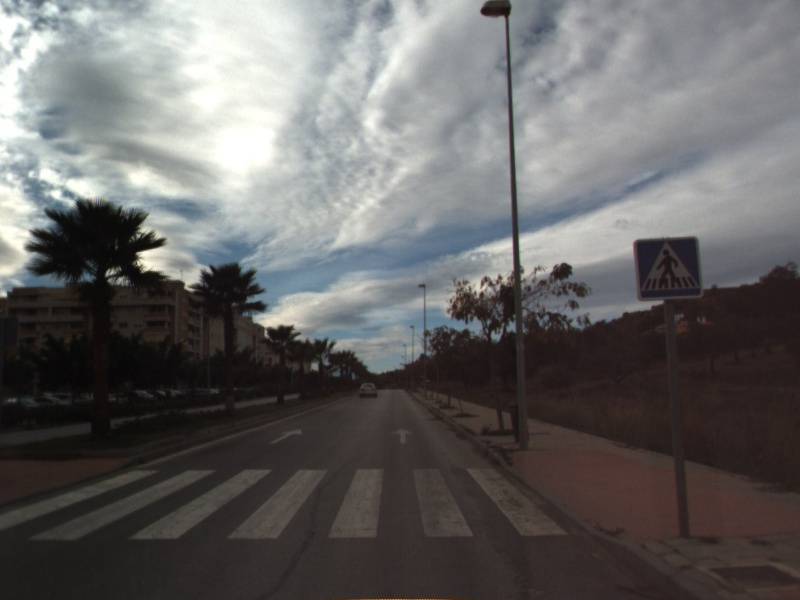STRAIGHT: (267, 426, 304, 445), (389, 426, 416, 446)
